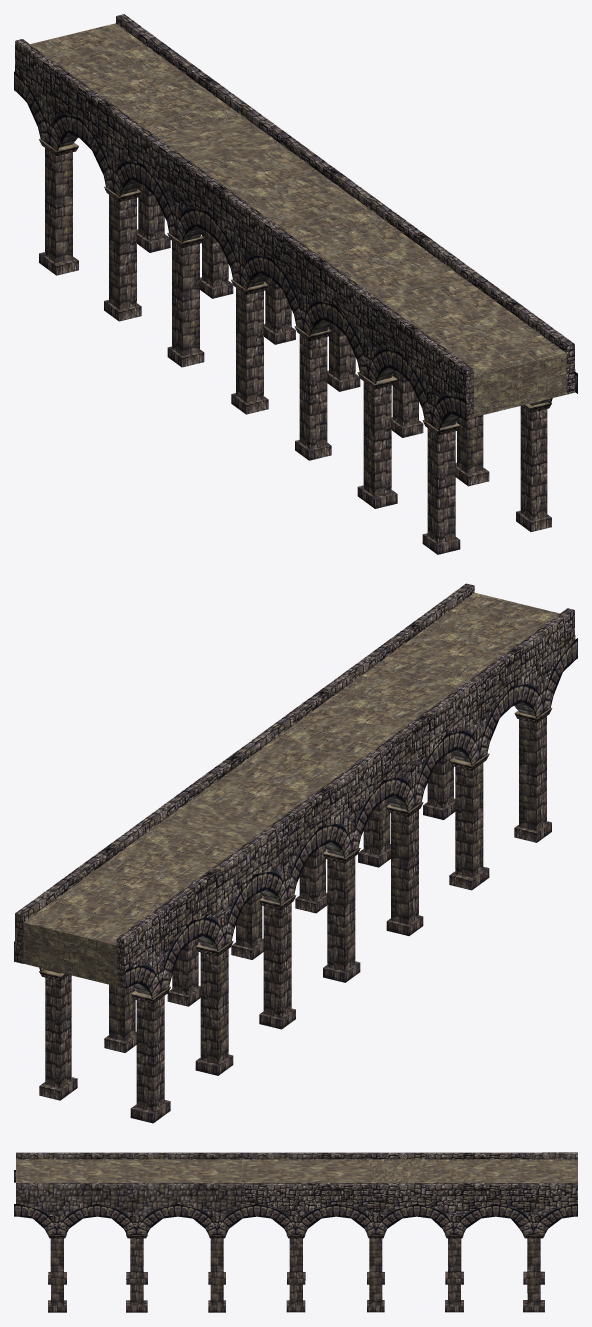
Rendered from bridge_columned.fbx.
3 renders of one model, top to bottom at view 1: azimuth 30°, elevation 25°; view 2: azimuth 150°, elevation 25°; view 3: azimuth 270°, elevation 25°, orthographic. The views are drawn at different scales.
Visible parts, largest first — view 1: polySurface29, opt_ref:bridge_columned_geometry4_top_sidewall_left2, polySurface20, opt_ref:bridge_columned_geometry4_top_sidewall_right, polySurface6, polySurface30, polySurface5, polySurface7, polySurface3, polySurface2, polySurface4, polySurface1 (+6 smaller); view 2: polySurface29, opt_ref:bridge_columned_geometry4_top_sidewall_left2, polySurface20, opt_ref:bridge_columned_geometry4_top_sidewall_right, polySurface6, polySurface31, polySurface4, polySurface3, polySurface2, polySurface1, polySurface7, polySurface5 (+6 smaller); view 3: opt_ref:bridge_columned_geometry4_top_sidewall_right, polySurface29, polySurface21, opt_ref:bridge_columned_geometry4_top_sidewall_left2, polySurface13, polySurface11, polySurface10, polySurface9, polySurface8, polySurface6, polySurface12, base_12 (+1 smaller).
Part boxes in pixels (<box>): polySurface29: <box>30,23,565,375</box>; opt_ref:bridge_columned_geometry4_top_sidewall_left2: <box>15,39,473,418</box>; polySurface20: <box>14,71,466,430</box>; opt_ref:bridge_columned_geometry4_top_sidewall_right: <box>116,14,575,394</box>; polySurface6: <box>363,381,547,520</box>; polySurface30: <box>473,353,566,417</box>; polySurface5: <box>299,334,327,448</box>; polySurface7: <box>427,428,455,542</box>; polySurface3: <box>172,241,199,355</box>; polySurface2: <box>109,195,136,309</box>; polySurface4: <box>236,288,263,402</box>; polySurface1: <box>45,148,72,262</box>; polySurface29: <box>24,592,559,945</box>; opt_ref:bridge_columned_geometry4_top_sidewall_left2: <box>116,608,575,988</box>; polySurface20: <box>125,638,577,998</box>; opt_ref:bridge_columned_geometry4_top_sidewall_right: <box>15,583,474,963</box>; polySurface6: <box>427,752,483,877</box>; polySurface31: <box>23,922,116,986</box>; polySurface4: <box>327,856,355,971</box>; polySurface3: <box>263,903,291,1017</box>; polySurface2: <box>200,949,228,1063</box>; polySurface1: <box>136,996,164,1110</box>; polySurface7: <box>519,716,546,830</box>; polySurface5: <box>391,810,418,924</box>; opt_ref:bridge_columned_geometry4_top_sidewall_right: <box>16,1183,577,1215</box>; polySurface29: <box>16,1159,577,1182</box>; polySurface21: <box>14,1204,577,1234</box>; opt_ref:bridge_columned_geometry4_top_sidewall_left2: <box>16,1152,577,1159</box>; polySurface13: <box>527,1238,540,1305</box>; polySurface11: <box>369,1238,382,1305</box>; polySurface10: <box>289,1238,302,1305</box>; polySurface9: <box>210,1238,223,1305</box>; polySurface8: <box>130,1238,143,1305</box>; polySurface6: <box>50,1238,63,1305</box>; polySurface12: <box>448,1238,460,1305</box>; base_12: <box>126,1300,147,1312</box>.
Bounding box in the file's own units: 2533 × 4260 × 17265.
Materials: 5 (5 with a texture image).
